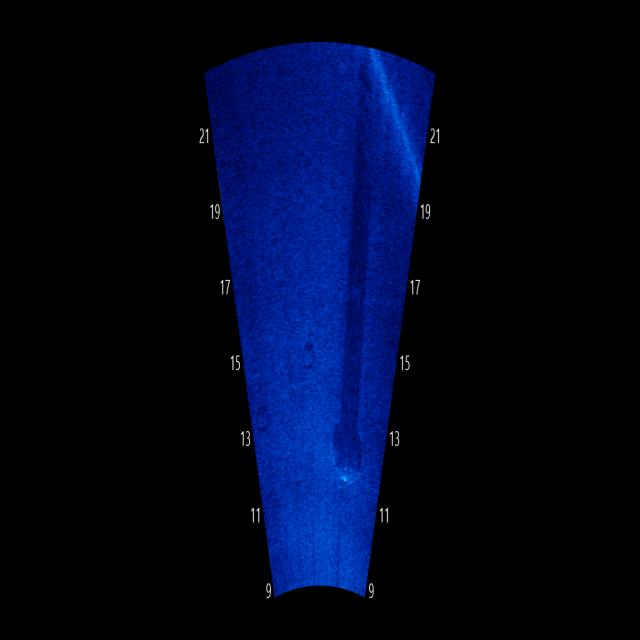circle: (294, 333, 324, 375), (251, 390, 273, 438)
square: (328, 419, 367, 488)
